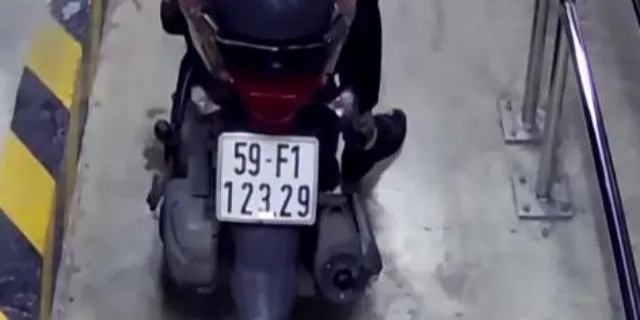bien_so: (218, 130, 320, 228)
